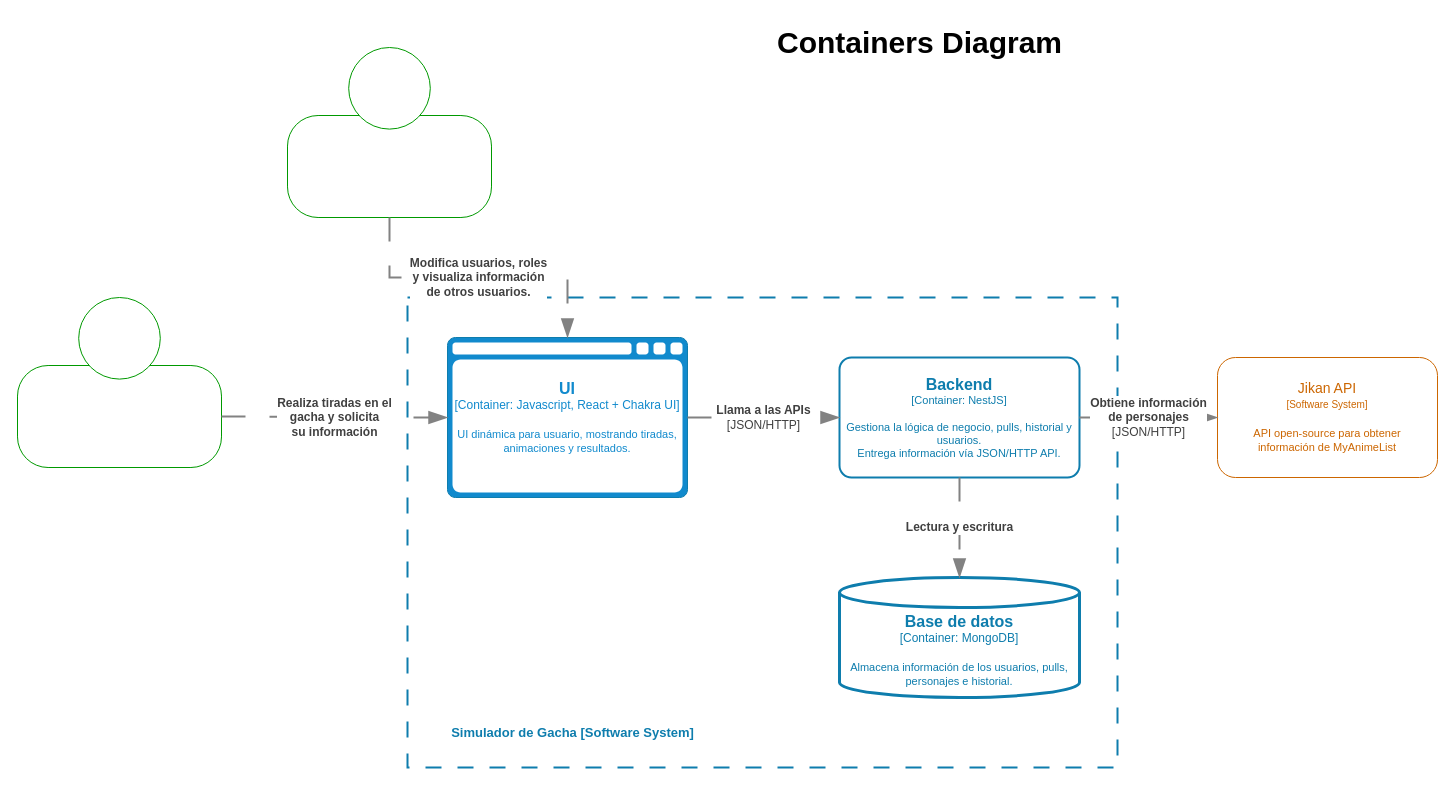
Image size: 1455x785. Some labels were removed from this diagram. Here are the shapes that lost their labels. From the top down, the centre of each, then its label:
At (x=389, y=166): "Administrador [Person] Puede modificar y ver información de otros usuarios.".
At (x=119, y=416): "Usuario [Person] Cliente que puede jugar al gacha ver su propia información.".
